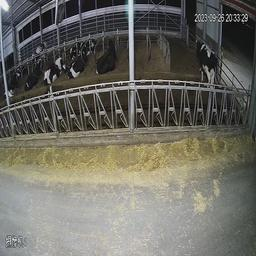cow: (192, 33, 219, 88), (38, 42, 65, 85), (96, 36, 122, 76), (66, 48, 89, 82), (21, 54, 38, 95), (5, 68, 20, 104), (72, 32, 94, 53)
